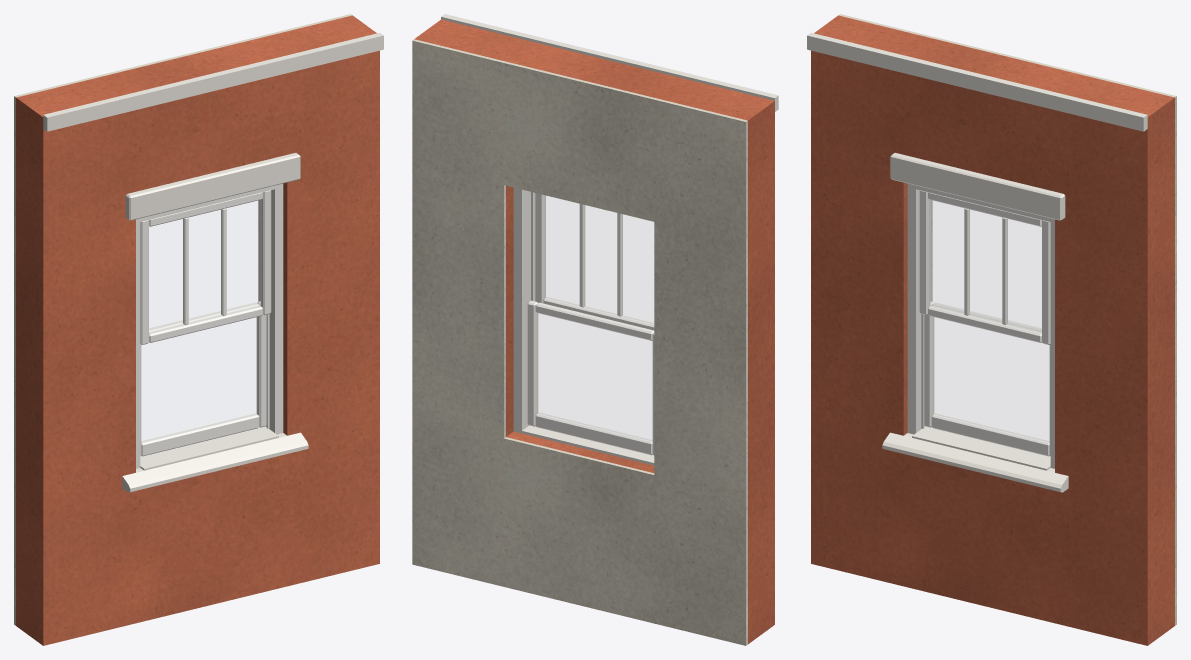
Rendered from wall_render_window.glb.
3 renders of one model, left to right at view 1: azimuth 30°, elevation 25°; view 2: azimuth 150°, elevation 25°; view 3: azimuth 330°, elevation 25°, orthographic.
Visible parts, largest first — view 1: wall_render_window_render, wall_render_window_trim, folha_glass, wall_render_window_glass, wall_render_window_sash, wall_render_window_frame, folha_sash, wall_render_window_plaster; view 2: wall_render_window_plaster, wall_render_window_render, folha_glass, wall_render_window_glass, folha_sash, wall_render_window_frame, wall_render_window_trim, wall_render_window_sash; view 3: wall_render_window_render, wall_render_window_trim, folha_glass, wall_render_window_glass, wall_render_window_sash, wall_render_window_frame, folha_sash, wall_render_window_plaster.
Boxes of the visible parts, x1,y1,x2,y2 form: wall_render_window_render: (16,15,379,645); wall_render_window_trim: (43,32,383,492); folha_glass: (142,317,257,441); wall_render_window_glass: (149,200,261,332); wall_render_window_sash: (140,190,271,344); wall_render_window_frame: (136,183,283,468); folha_sash: (140,301,266,456); wall_render_window_plaster: (14,14,352,625); wall_render_window_plaster: (412,39,747,645); wall_render_window_render: (414,19,774,644); folha_glass: (537,313,651,440); wall_render_window_glass: (545,196,653,323); folha_sash: (527,300,654,455); wall_render_window_frame: (513,187,535,433); wall_render_window_trim: (441,14,778,465); wall_render_window_sash: (535,193,654,330); wall_render_window_render: (811,15,1174,645); wall_render_window_trim: (807,32,1147,492); folha_glass: (933,317,1048,441); wall_render_window_glass: (929,200,1041,332); wall_render_window_sash: (919,190,1050,344); wall_render_window_frame: (907,183,1054,468); folha_sash: (924,301,1050,456); wall_render_window_plaster: (838,14,1176,625).
Bounding box in the file's own units: 2 × 3.02 × 0.38.
6 materials, 2 textured.
